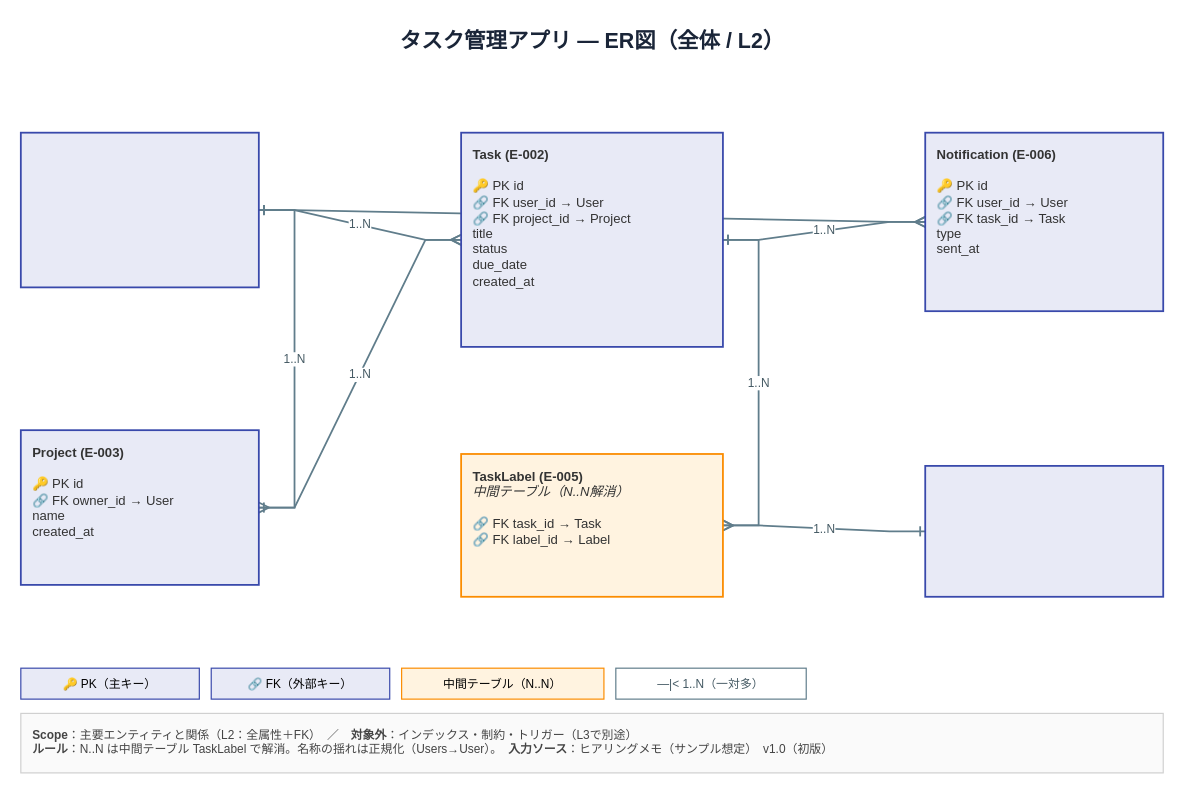
The diagram is 1185 pixels wide and 794 high, and some of its shapes have lost their labels. The box of each missing label's shape, as (x1, y1, x2, y2) in pixels:
Label (E-004) 🔑 PK id name color: (924, 464, 1164, 597)
User (E-001) 🔑 PK id email (UNIQUE) name created_at: (19, 131, 259, 288)
